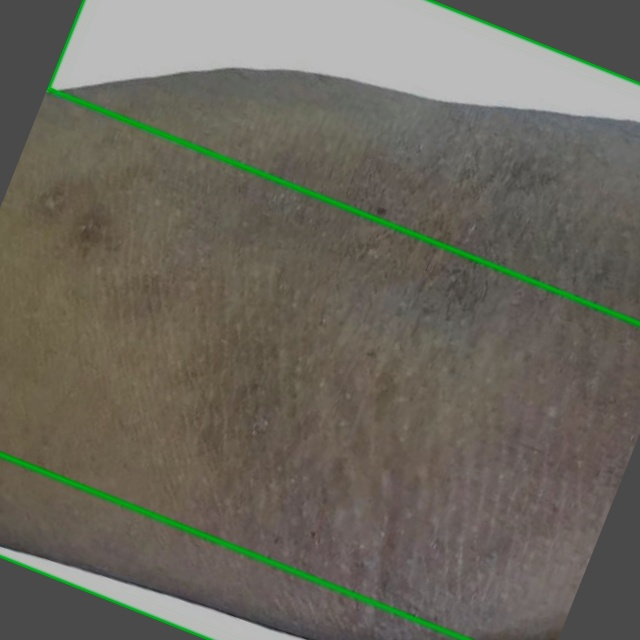Contact Dermatitis: (48, 0, 639, 323)
